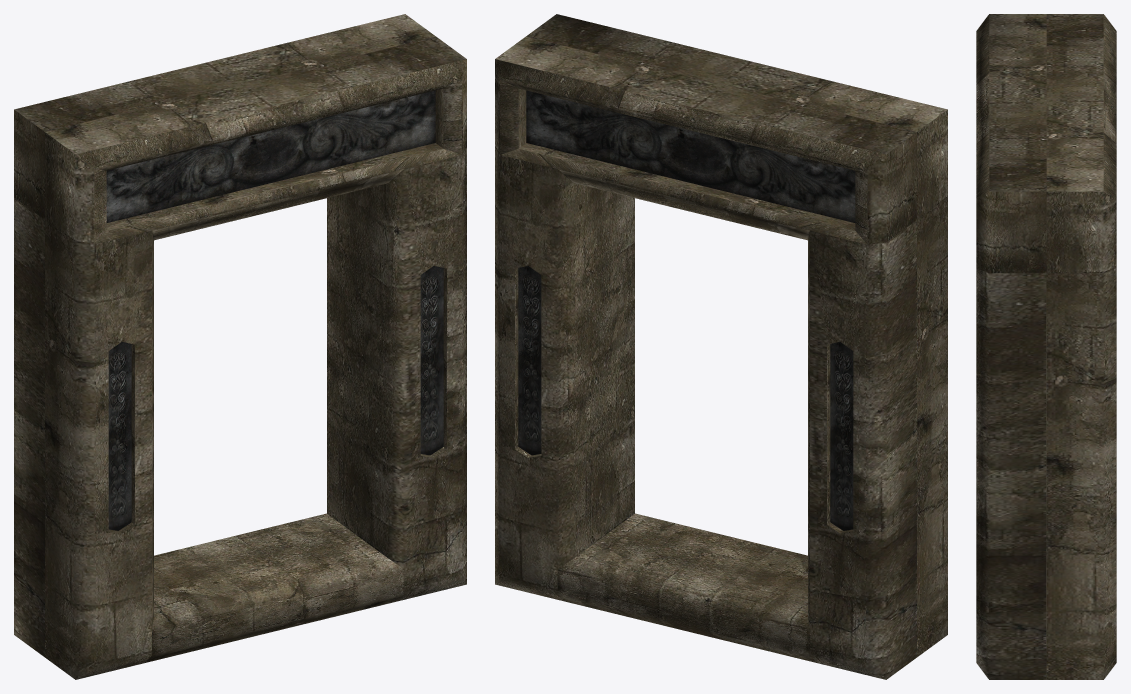
File: door_frame_worn_amfp.dae
3 renders of one model, left to right at view 1: azimuth 30°, elevation 25°; view 2: azimuth 150°, elevation 25°; view 3: azimuth 270°, elevation 25°, orthographic. The views are drawn at different scales.
Visible parts, largest first — view 1: polySurface130, polySurface154; view 2: polySurface130, polySurface154; view 3: polySurface130.
Part boxes in pixels (box(x1,y1,x2,y2)): polySurface130: box(14, 14, 466, 679); polySurface154: box(106, 90, 443, 530); polySurface130: box(495, 14, 947, 679); polySurface154: box(518, 90, 855, 530); polySurface130: box(976, 14, 1116, 679).
Size of the model in its own units: 3 by 3.85 by 1.
